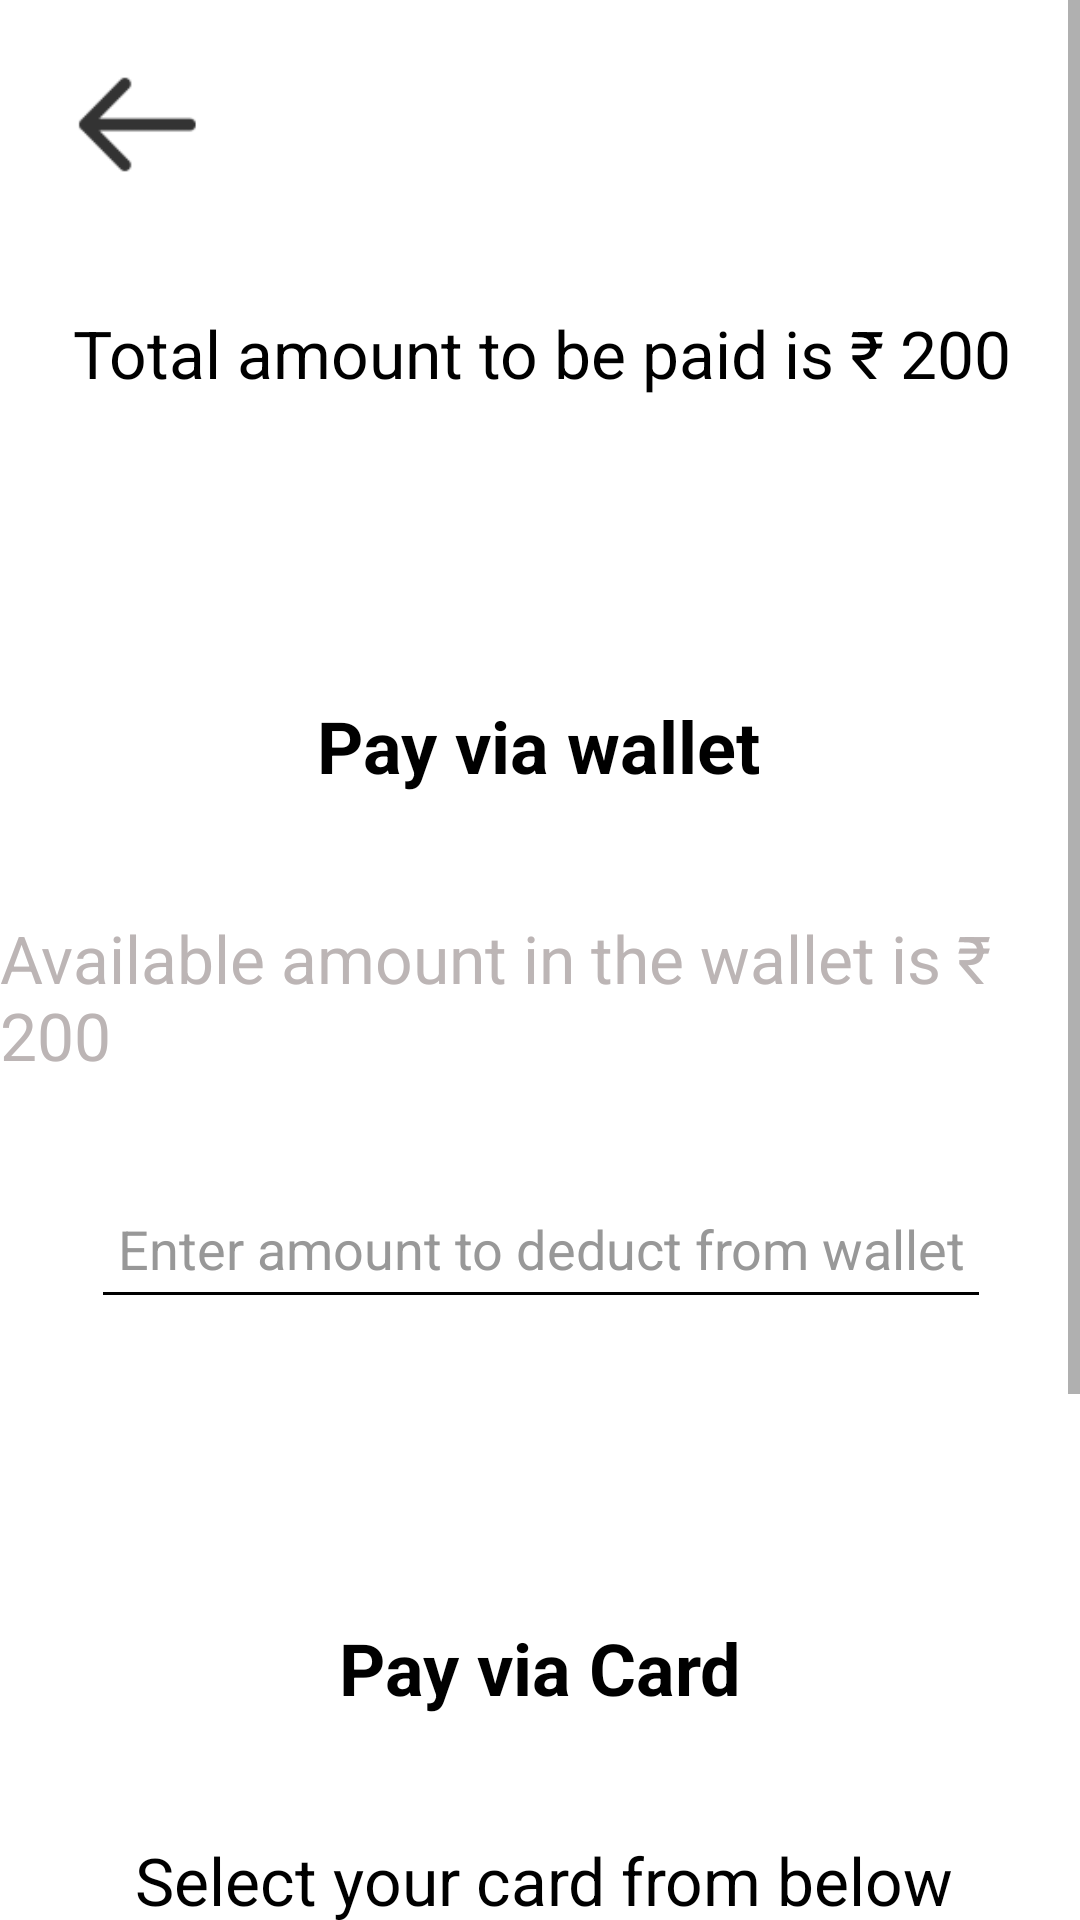

Icons on this 1080 × 1920 Android screen, each with the point to tap as (x,y):
back arrow: (137,124)
